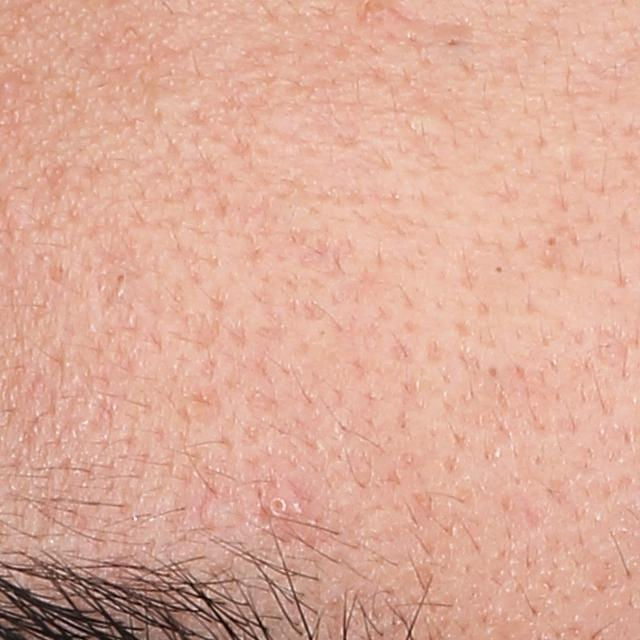comedo: (261, 483, 304, 532), (140, 83, 184, 120), (537, 231, 563, 256), (114, 270, 128, 283)
